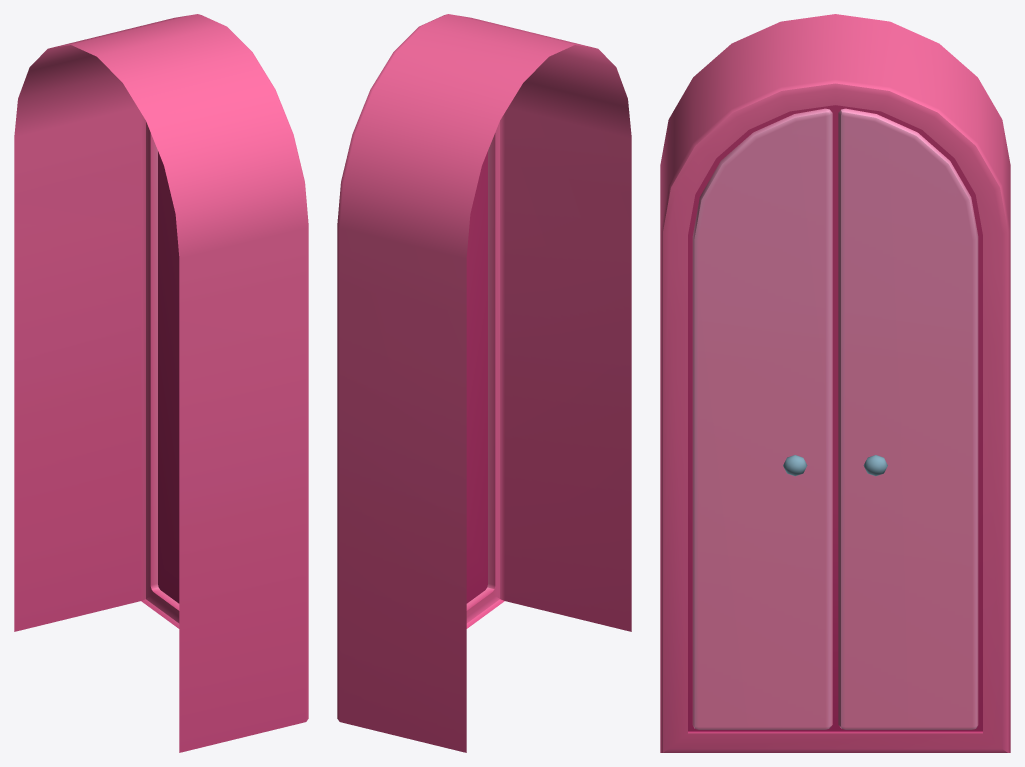
File: wardrobe_3.fbx
3 renders of one model, left to right at view 1: azimuth 30°, elevation 25°; view 2: azimuth 150°, elevation 25°; view 3: azimuth 270°, elevation 25°, orthographic. The views are drawn at different scales.
Visible parts, largest first — view 1: wardrobe_3; view 2: wardrobe_3; view 3: wardrobe_3.
Boxes of the visible parts, x1,y1,x2,y2 form: wardrobe_3: [14, 14, 308, 752]; wardrobe_3: [337, 14, 631, 752]; wardrobe_3: [660, 14, 1010, 752].
Bounding box in the file's own units: 8.04 × 32.98 × 15.53.
